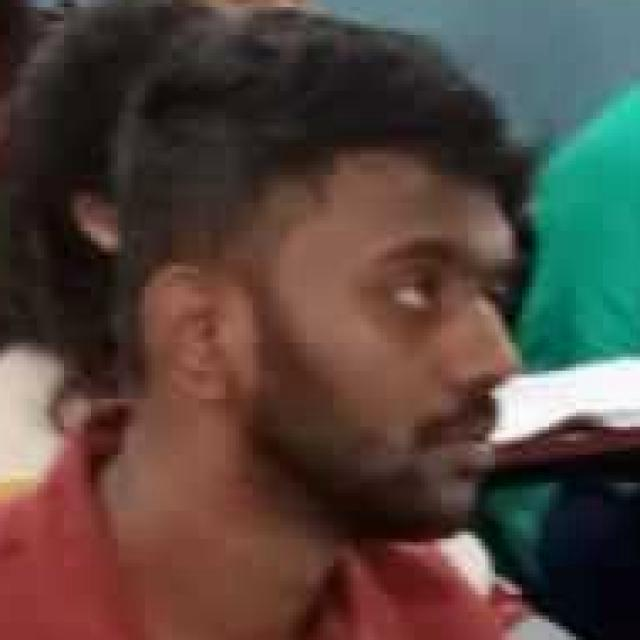Looking forward: (226, 163, 522, 534)
